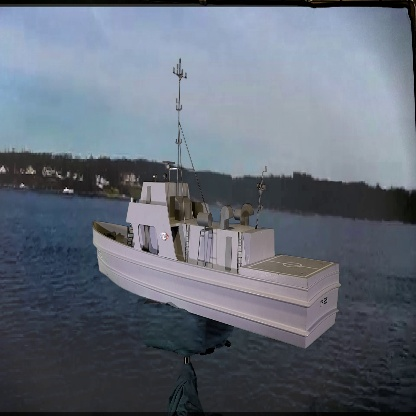YP689: (92, 60, 342, 350)
